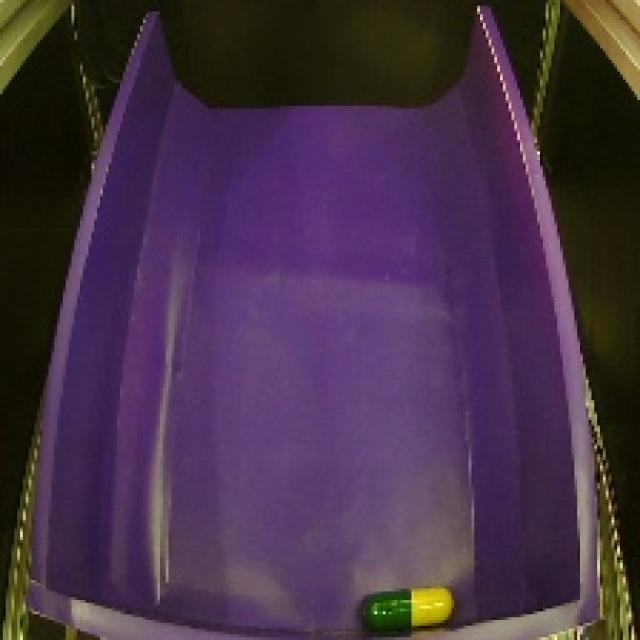small: (351, 574, 462, 637)
